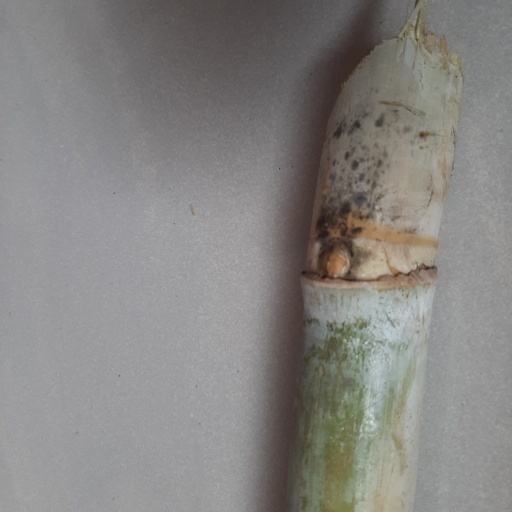Bud: (318, 240, 352, 280)
